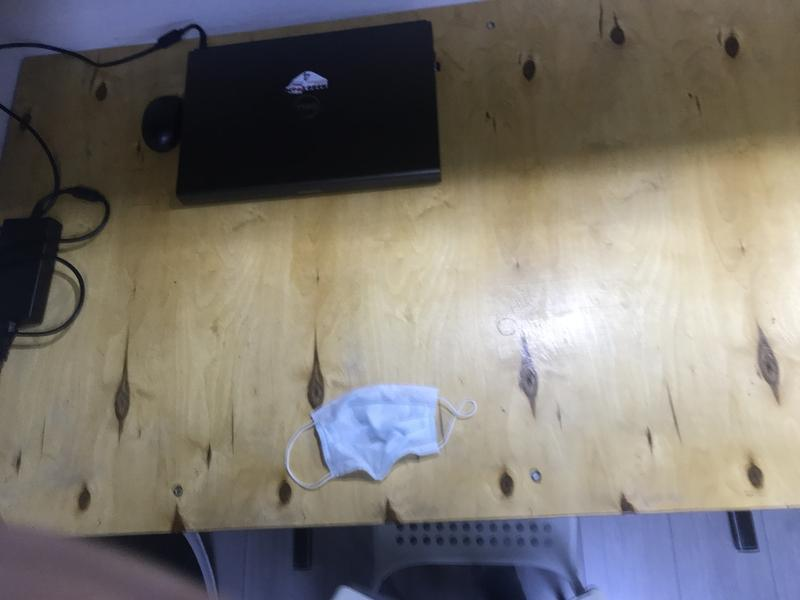medical_mask: (285, 385, 477, 491)
